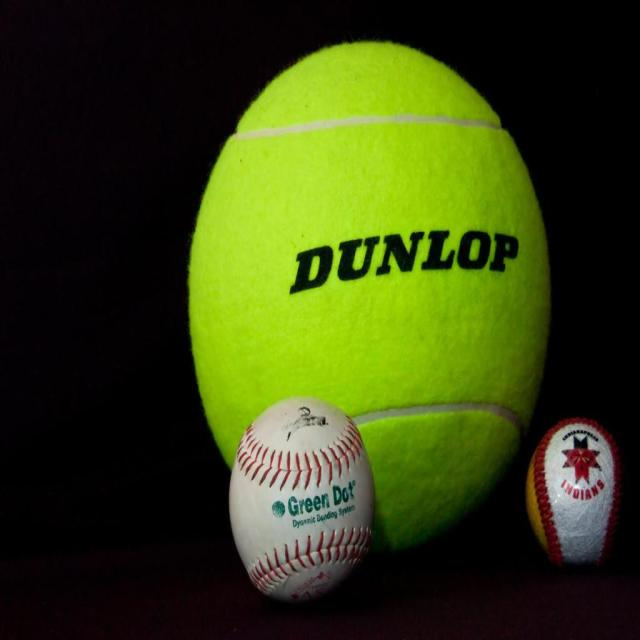Tennis ball: (188, 40, 550, 556), (230, 396, 378, 604), (526, 420, 626, 562)
